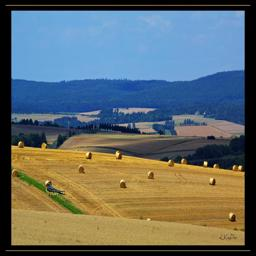Swallow: (45, 183, 65, 195)
